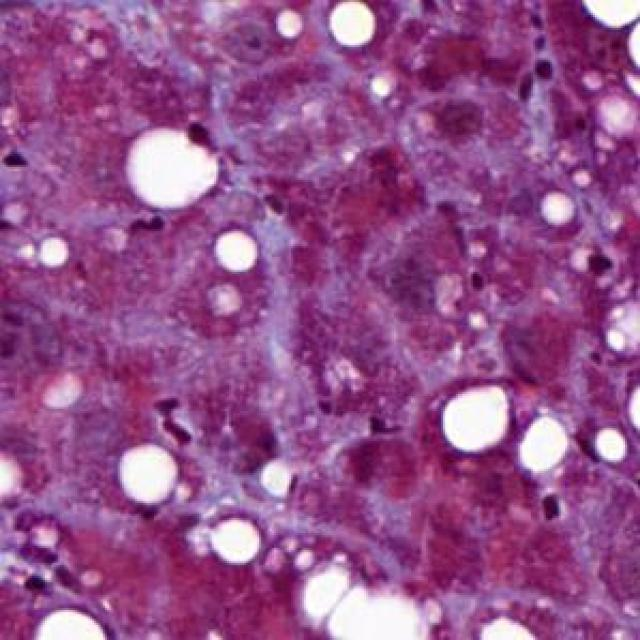inflammation: (152, 388, 205, 450)
